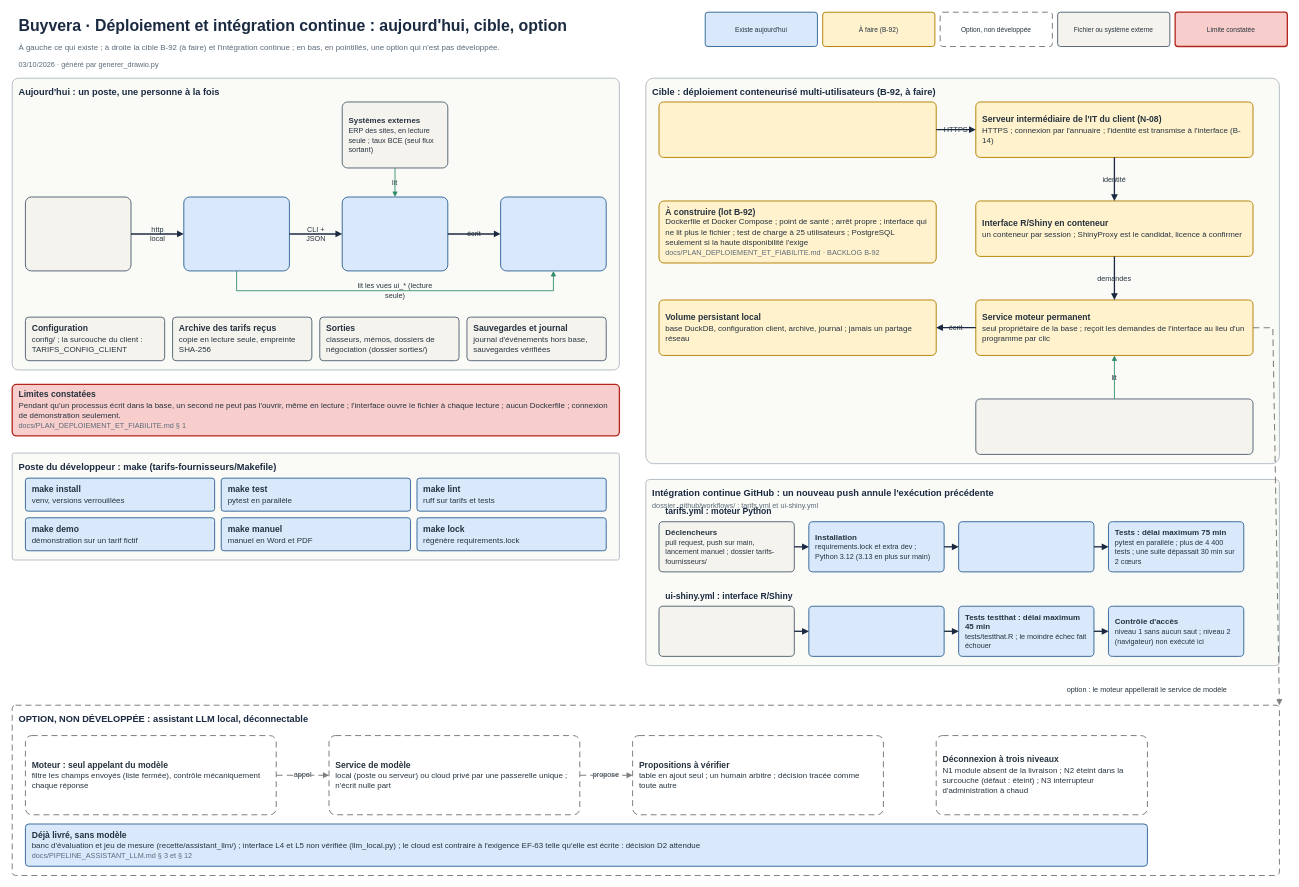
The diagram is 1299 pixels wide and 887 high, and some of its shapes have lost their labels. The centre of each missing label's shape, as x and y in pixels:
Acheteur navigateur sur le poste: [78,233]
Déclencheurs pull request, push sur main, lancement manuel ; dossier ui-shiny/: [726,631]
Entrepôt DuckDB data/entrepot.duckdb un seul écrivain à la fois: [553,233]
ERP des sites lecture seule : le moteur n'y écrit jamais: [1114,426]
Interface R/Shiny lancée par ui-shiny/lancer.sh http://127.0.0.1:8765: [236,233]
Lint ruff check tarifs tests: [1026,546]
Moteur Python un programme lancé à chaque action traitement.py: [394,233]
R 4.6.1 renv::restore depuis renv.lock, cache de la librairie .rlib: [876,631]
Utilisateurs navigateurs, plusieurs personnes à la fois: [797,129]
